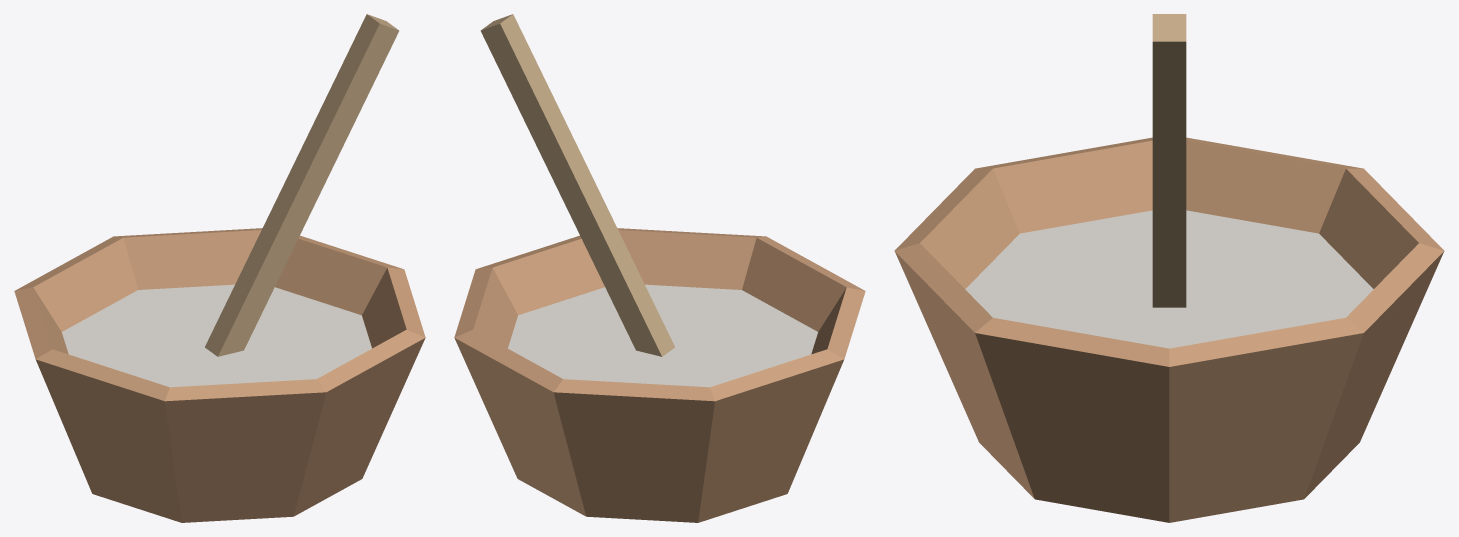
Rendered from prop-grout-bowl.fbx.
3 views of the same model, side by side, from view 1: azimuth 30°, elevation 25°; view 2: azimuth 150°, elevation 25°; view 3: azimuth 270°, elevation 25° (orthographic). The views are drawn at different scales.
Parts seen in each view (by area): view 1: prop-grout-bowl; view 2: prop-grout-bowl; view 3: prop-grout-bowl.
Boxes of the visible parts, box(x1,y1,x2,y2) form: prop-grout-bowl: box(14, 14, 425, 522); prop-grout-bowl: box(454, 14, 865, 522); prop-grout-bowl: box(894, 14, 1444, 522).
Size of the model in its own units: 13 by 13.7 by 13.
